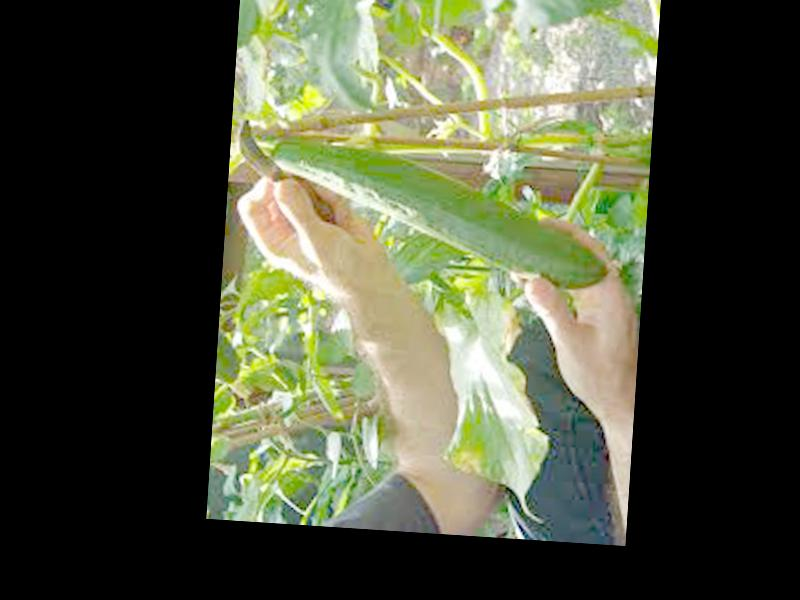Cucumber: (266, 137, 613, 290)
